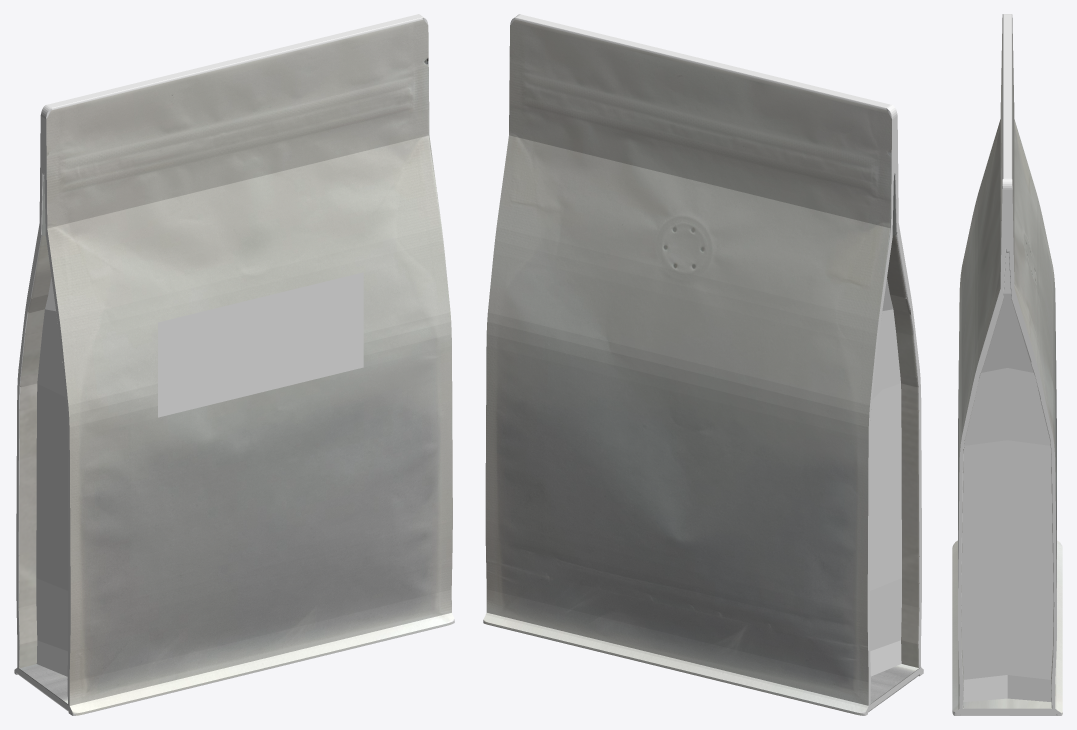
Rendered from flatbottombag.glb.
3 views of the same model, side by side, from view 1: azimuth 30°, elevation 25°; view 2: azimuth 150°, elevation 25°; view 3: azimuth 270°, elevation 25° (orthographic). The views are drawn at different scales.
Parts seen in each view (by area): view 1: Cube, PrintArea_Plane; view 2: Cube; view 3: Cube.
Boxes of the visible parts, bbox=[...] form: Cube: bbox=[14, 14, 454, 715]; PrintArea_Plane: bbox=[158, 272, 363, 417]; Cube: bbox=[483, 14, 923, 715]; Cube: bbox=[952, 14, 1062, 715].
Bounding box in the file's own units: 0.13 × 0.1908 × 0.0357.
Materials: 4 (2 with a texture image).
